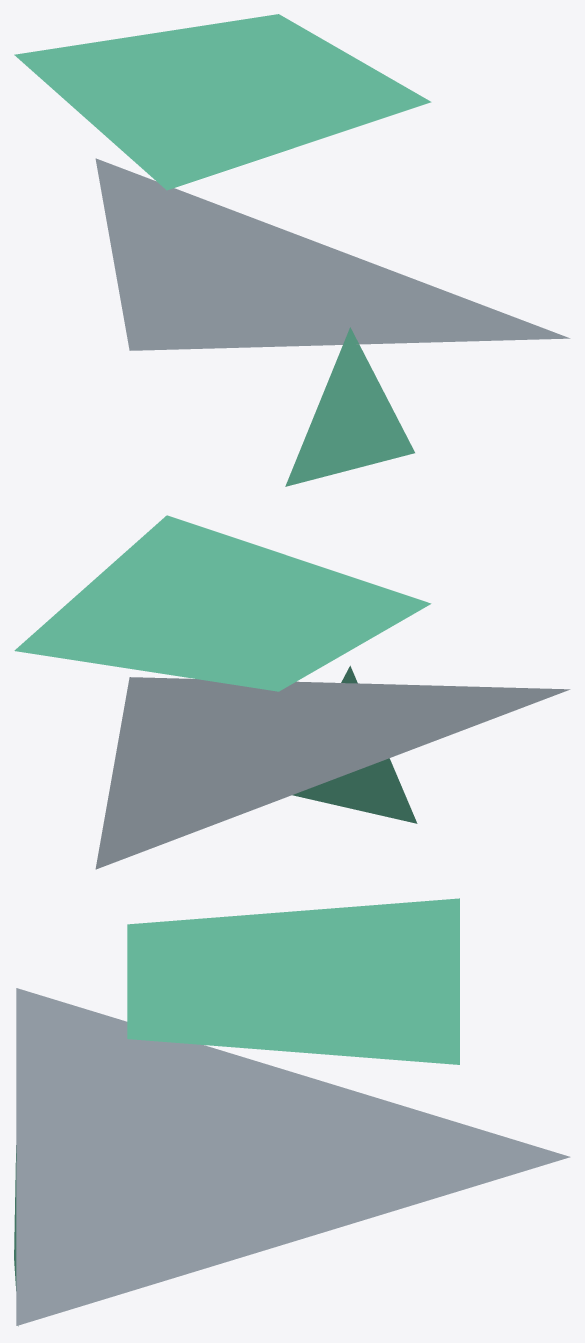
File: CO_ConYard_LOD2.glb
3 views of the same model, one above another, from view 1: azimuth 30°, elevation 25°; view 2: azimuth 150°, elevation 25°; view 3: azimuth 270°, elevation 25° (orthographic). The views are drawn at different scales.
Visible parts, largest first — view 1: EntranceGate; view 2: EntranceGate; view 3: EntranceGate.
Part boxes in pixels (left/top/right/bottom): EntranceGate: left=14, top=14, right=570, bottom=486; EntranceGate: left=14, top=515, right=570, bottom=869; EntranceGate: left=14, top=898, right=570, bottom=1326.
Size of the model in its own units: 800 by 517 by 803.
